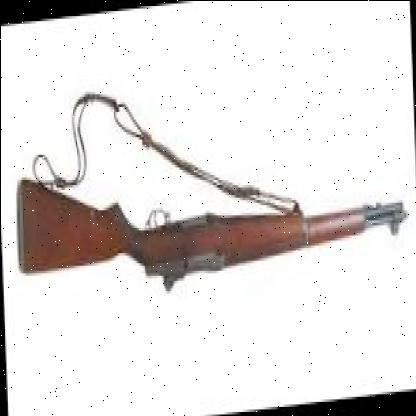rifle: (7, 123, 409, 315)
